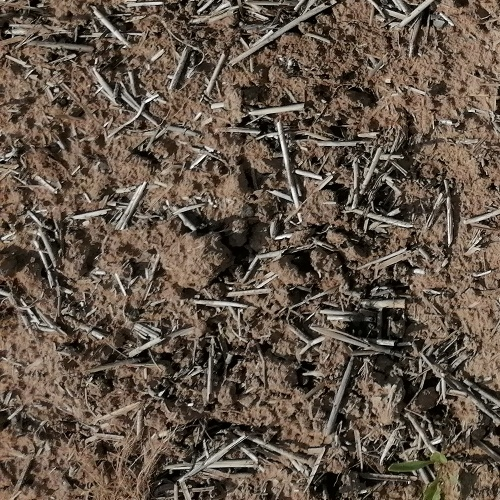beet: (388, 449, 448, 500)
